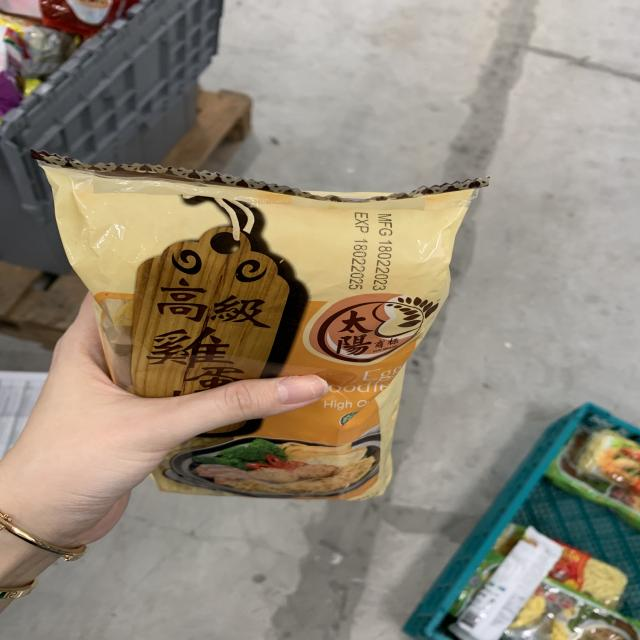object_name: (59, 165, 402, 498)
